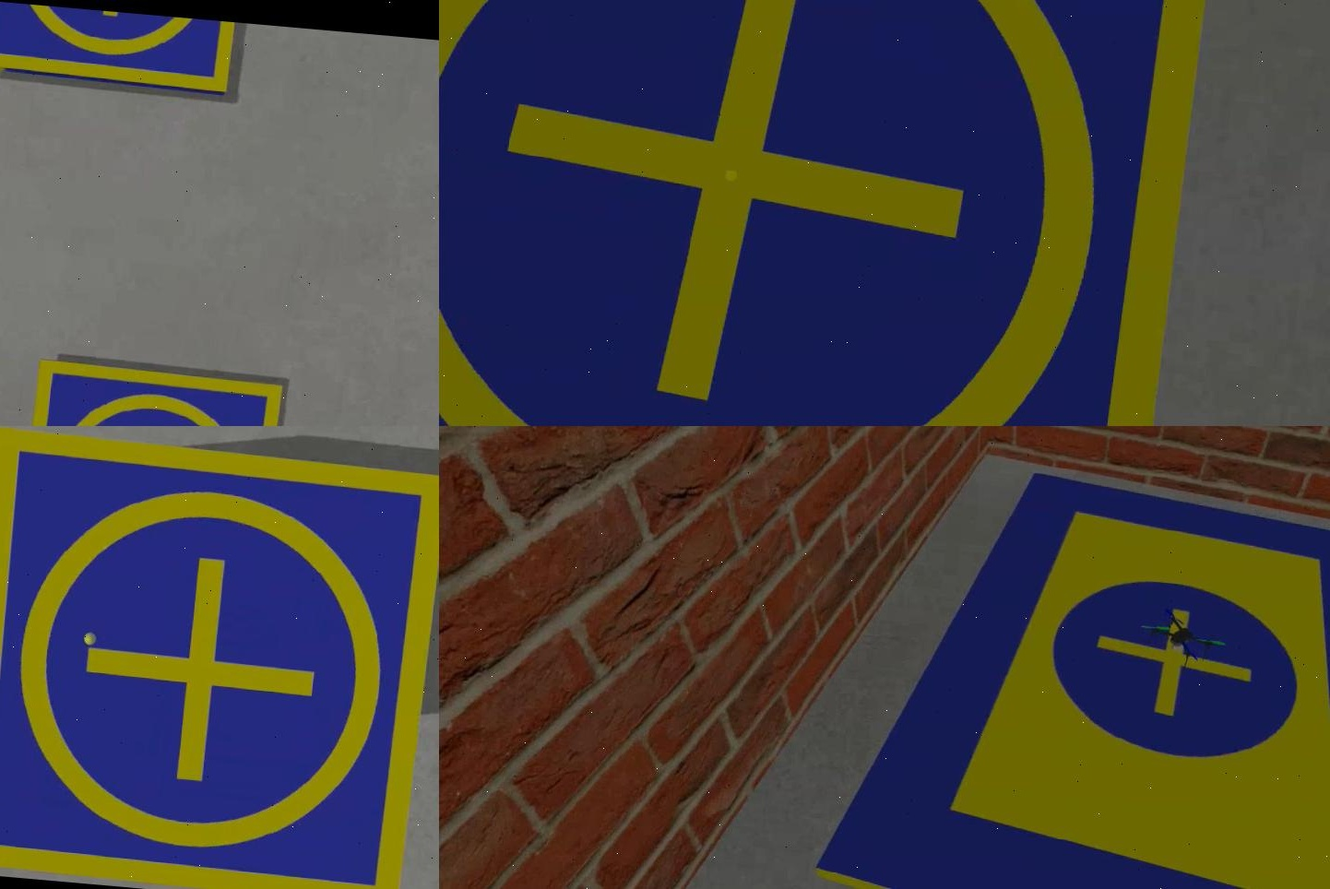large_base: (803, 455, 1328, 889)
small_base: (437, 1, 1229, 426), (0, 426, 437, 889), (0, 1, 232, 96), (13, 360, 279, 426)
